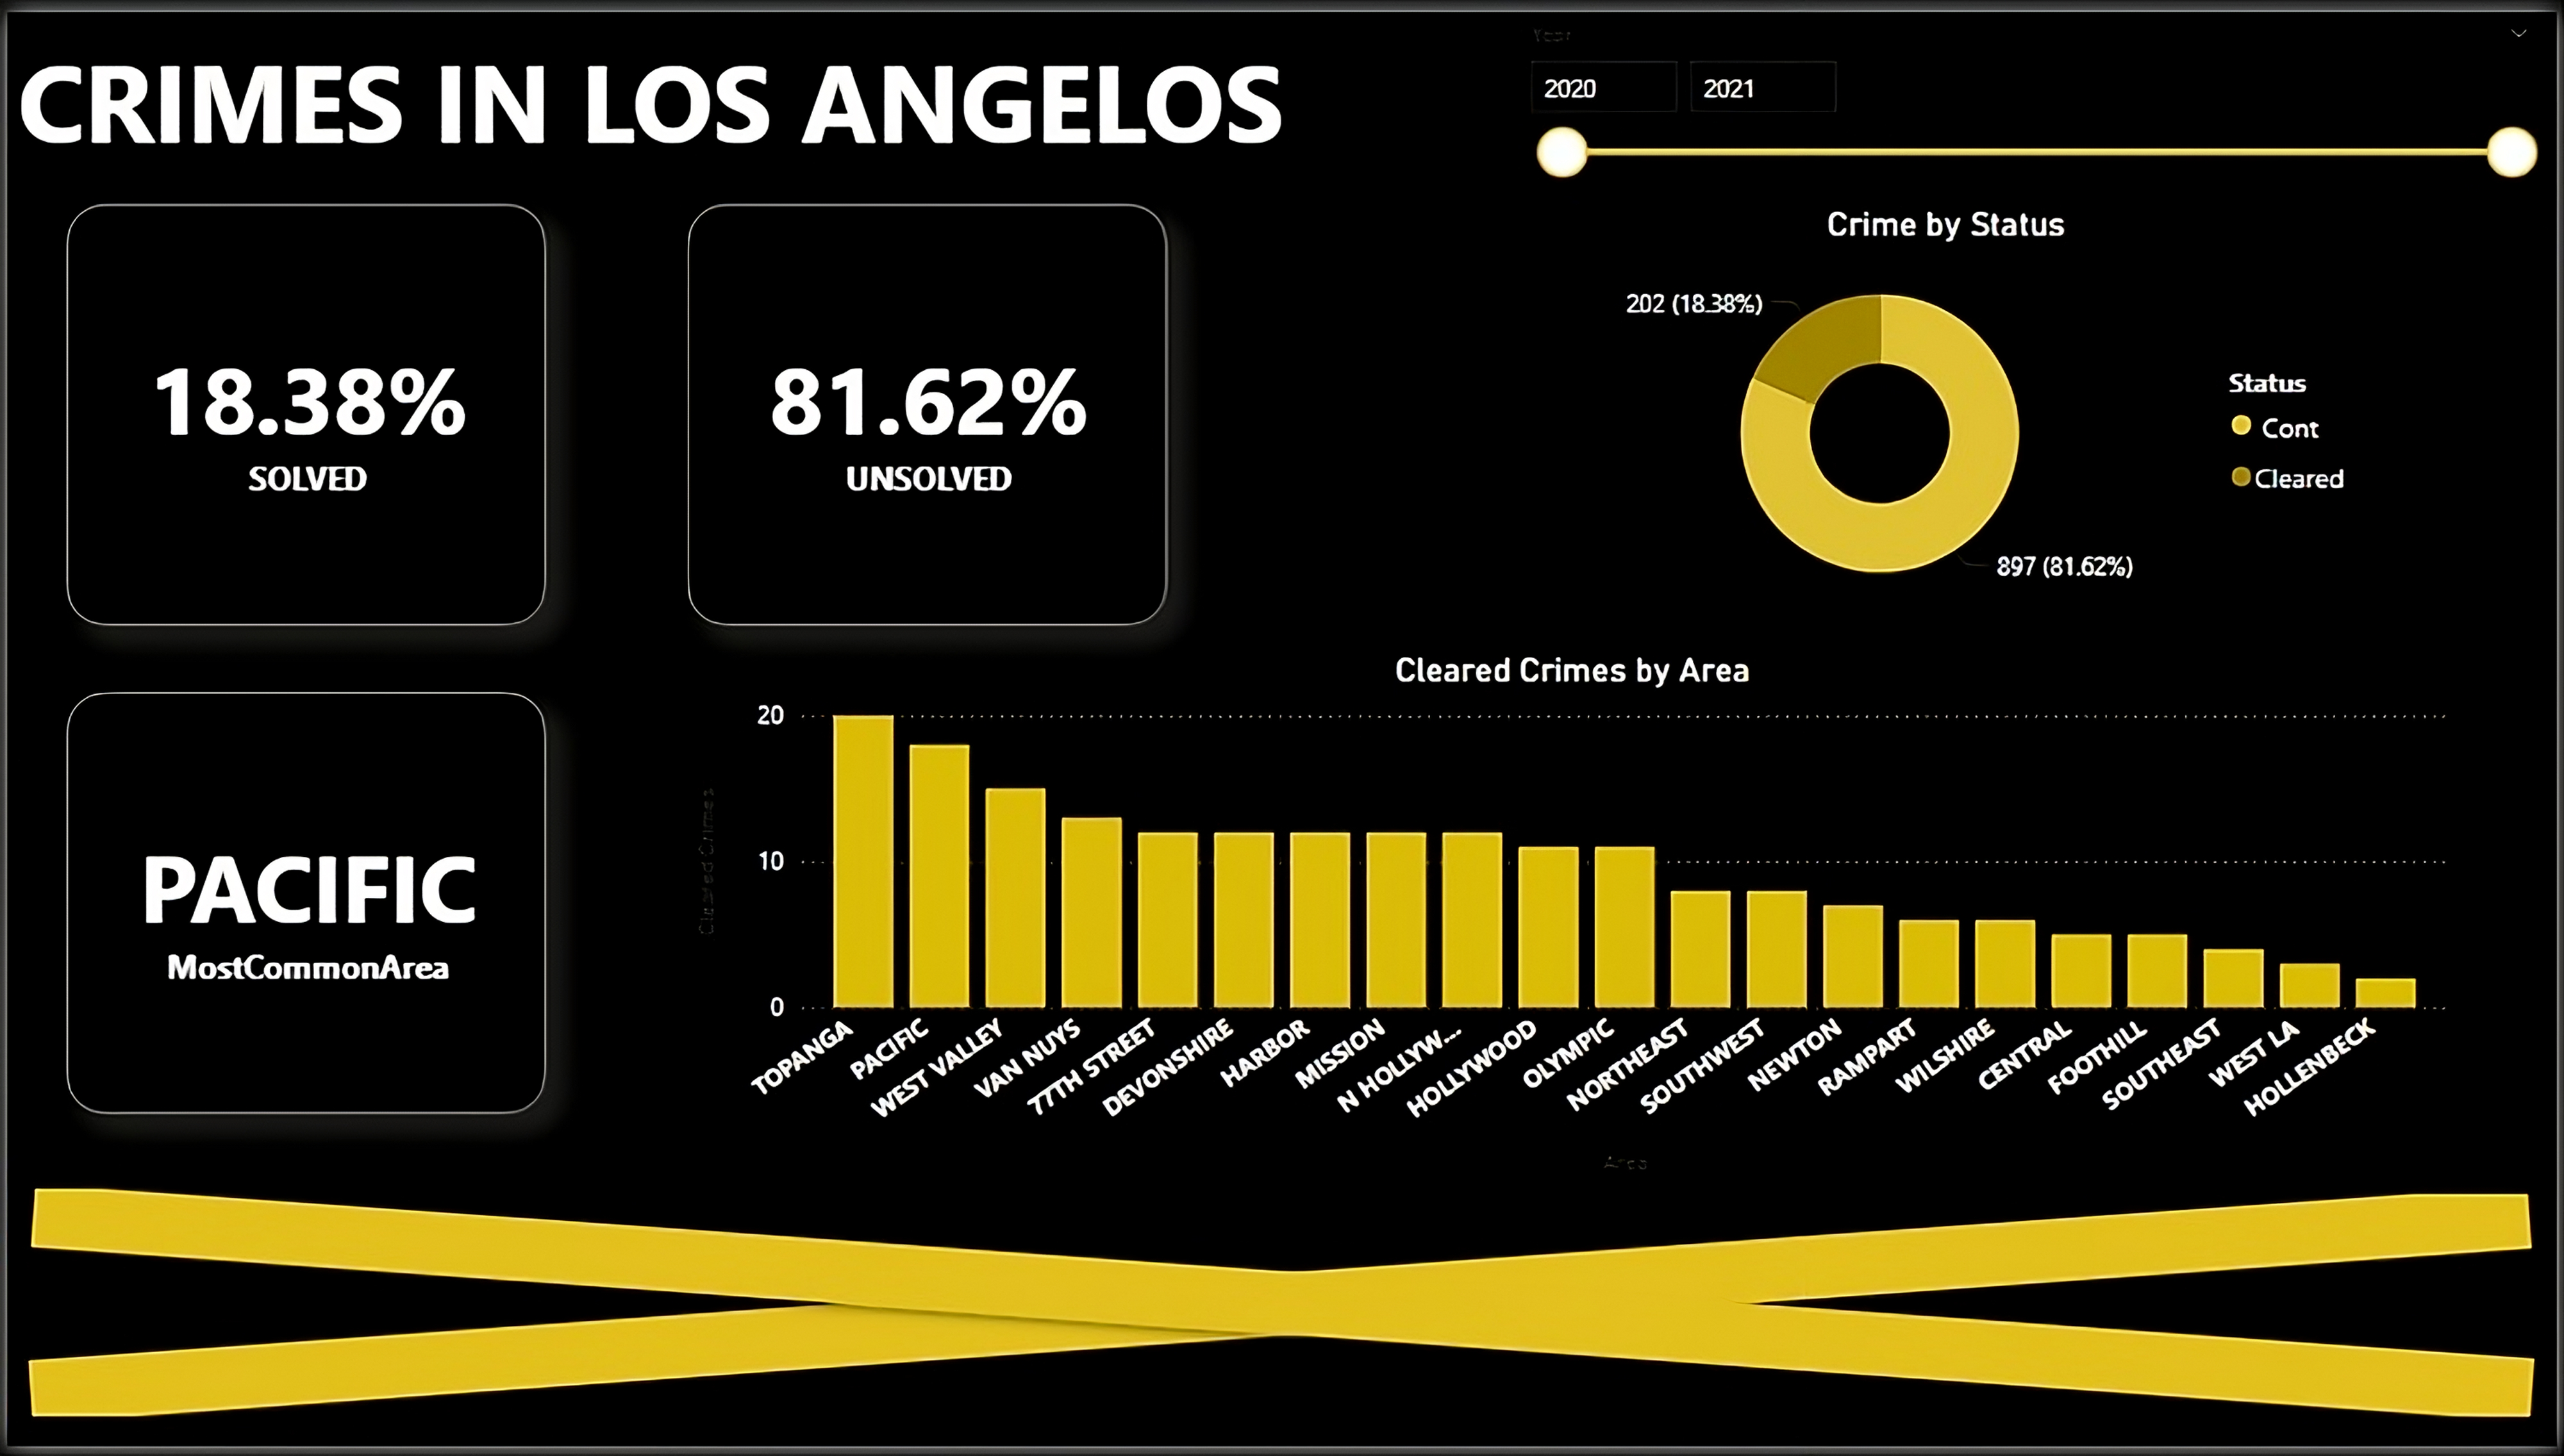

Layout of this report page (visuals, bound fields, positions):
{"tool":"powerbi","page":{"name":"Page 2","canvas":[1280,720],"ordinal":1},"visuals":[{"type":"slicer","title":"Total Crimes by Gender","fields":{"Values":["Crime_Data_from_2020_to_Present.Date_occured.Variation.Date Hierarchy.Year"]},"box":[751.7,0,526.7,90],"z":0},{"type":"columnChart","fields":{"Category":["Crime_Data_from_2020_to_Present.Area"],"Y":["Crime_Data_from_2020_to_Present.Cleared Crimes"]},"box":[340.7,319.6,889.5,267.8],"z":1000},{"type":"shape","box":[0,593.6,1278.4,111.5],"z":2000},{"type":"shape","box":[1.8,590,1278.4,115],"z":3000},{"type":"textbox","box":[0,2,681,81],"z":4000},{"type":"donutChart","title":"Crime by Status","fields":{"Y":["CountNonNull(Crime_Data_from_2020_to_Present.Crime_Code)"],"Category":["Crime_Data_from_2020_to_Present.Status"]},"box":[759.5,96.6,427.6,211.6],"z":5000},{"type":"card","fields":{"Values":["Crime_Data_from_2020_to_Present.UNResolution Rate"]},"box":[340.7,96.6,241.5,211.6],"z":6000},{"type":"card","fields":{"Values":["Crime_Data_from_2020_to_Present.Resolution Rate"]},"box":[29,96.6,241.5,211.6],"z":7000},{"type":"card","fields":{"Values":["Crime_Data_from_2020_to_Present.MostCommonArea"]},"box":[29,341.6,241.5,211.6],"z":8000}]}

Visuals, with their boxes in screenshot pixels (x1, y1, x2, y2), scaled from the page's 1280x720 canvas onto the 2564x1456 screenshot:
"Total Crimes by Gender" slicer: [1506, 0, 2561, 182]
columnChart - Crime_Data_from_2020_to_Present.Area x Crime_Data_from_2020_to_Present.Cleared Crimes: [683, 647, 2464, 1188]
shape: [0, 1200, 2561, 1426]
shape: [4, 1193, 2563, 1426]
textbox: [0, 4, 1364, 168]
"Crime by Status" donutChart: [1521, 195, 2378, 624]
card - Crime_Data_from_2020_to_Present.UNResolution Rate: [683, 195, 1166, 624]
card - Crime_Data_from_2020_to_Present.Resolution Rate: [58, 195, 542, 624]
card - Crime_Data_from_2020_to_Present.MostCommonArea: [58, 691, 542, 1119]
